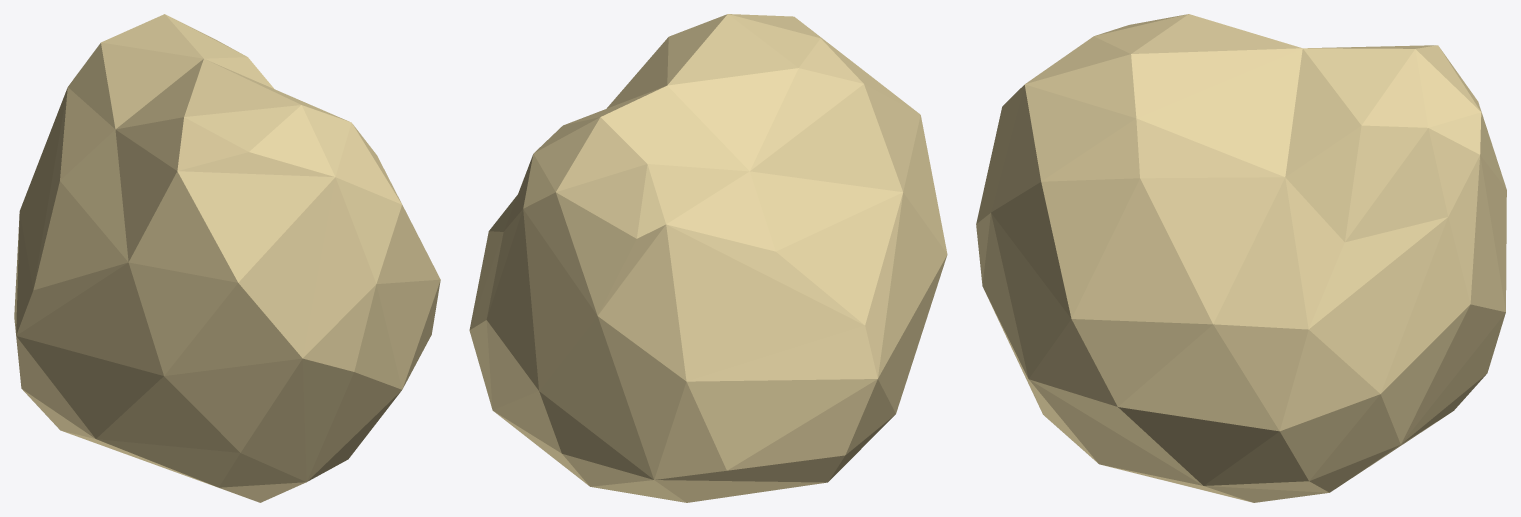
Rendered from Rock (78).fbx.
3 views of the same model, side by side, from view 1: azimuth 30°, elevation 25°; view 2: azimuth 150°, elevation 25°; view 3: azimuth 270°, elevation 25° (orthographic). The views are drawn at different scales.
Parts seen in each view (by area): view 1: Asteroid77; view 2: Asteroid77; view 3: Asteroid77.
Part boxes in pixels (box(x1,y1,x2,y2)): Asteroid77: box(14, 14, 440, 502); Asteroid77: box(469, 14, 947, 502); Asteroid77: box(976, 14, 1506, 502).
Bounding box in the file's own units: 71.06 × 72.68 × 79.04.
